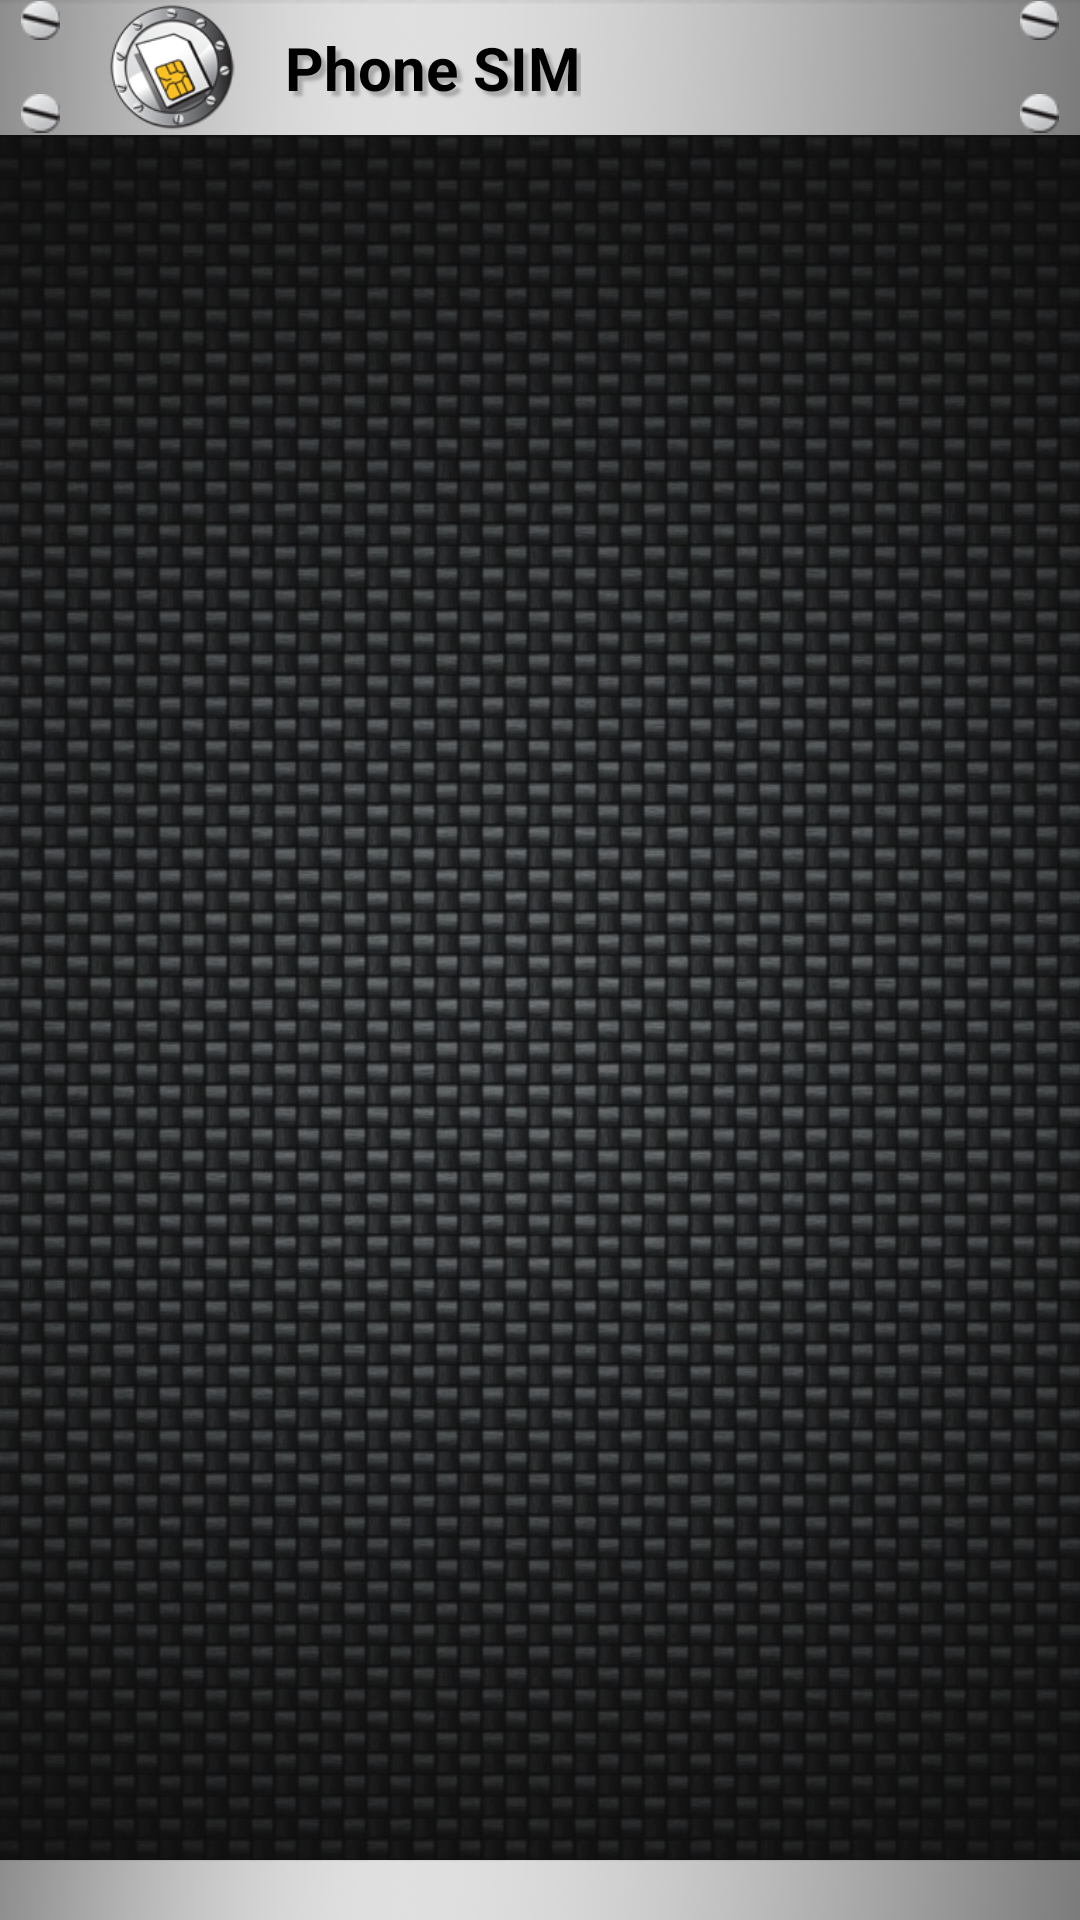

Screen size 1080px x 1920px. Icon name, then its center in pixels as (x=x, y=y):
sim card: (x=172, y=67)
tornillo: (x=40, y=20), (x=1039, y=20), (x=40, y=113), (x=1039, y=113)
